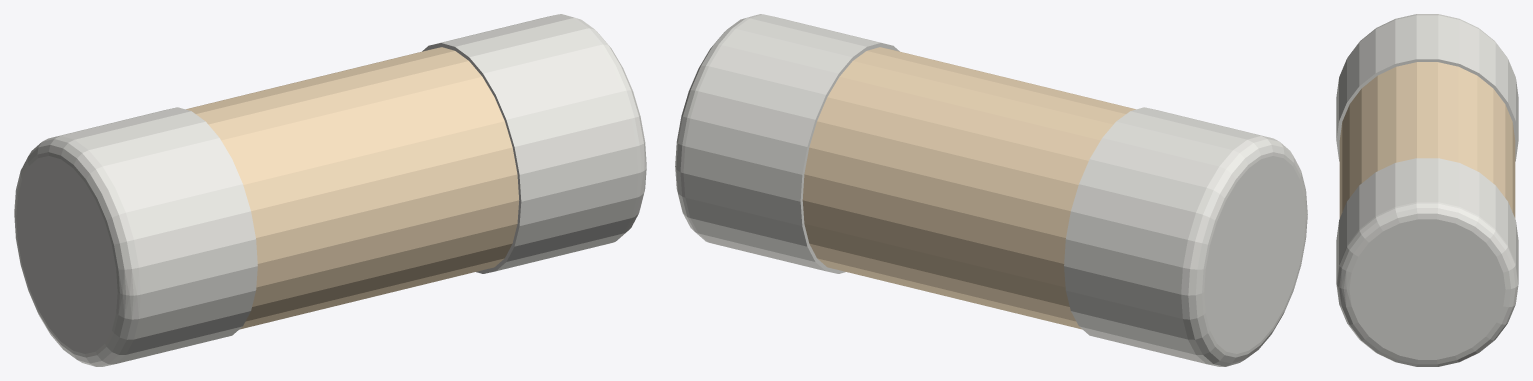
Rendered from R_MiniMELF_MMA-0204.glb.
The picture shows the model from 3 angles, left to right: view 1: azimuth 30°, elevation 25°; view 2: azimuth 150°, elevation 25°; view 3: azimuth 270°, elevation 25°; orthographic projection. The views are drawn at different scales.
Visible parts, largest first — view 1: Shape_IndexedFaceSet.004, Shape_IndexedFaceSet.006, Shape_IndexedFaceSet.002, Shape_IndexedFaceSet.008, Shape_IndexedFaceSet.007, Shape_IndexedFaceSet.001, Shape_IndexedFaceSet.003; view 2: Shape_IndexedFaceSet.004, Shape_IndexedFaceSet.006, Shape_IndexedFaceSet.002, Shape_IndexedFaceSet.008, Shape_IndexedFaceSet.007, Shape_IndexedFaceSet.001, Shape_IndexedFaceSet.003; view 3: Shape_IndexedFaceSet, Shape_IndexedFaceSet.004, Shape_IndexedFaceSet.002, Shape_IndexedFaceSet.006, Shape_IndexedFaceSet.001, Shape_IndexedFaceSet.005, Shape_IndexedFaceSet.007.
Boxes of the visible parts, x1,y1,x2,y2 form: Shape_IndexedFaceSet.004: (186,47,519,329); Shape_IndexedFaceSet.006: (52,107,257,363); Shape_IndexedFaceSet.002: (435,14,638,271); Shape_IndexedFaceSet.008: (16,156,117,353); Shape_IndexedFaceSet.007: (14,136,140,366); Shape_IndexedFaceSet.001: (559,14,646,242); Shape_IndexedFaceSet.003: (422,43,521,273); Shape_IndexedFaceSet.004: (802,47,1135,329); Shape_IndexedFaceSet.006: (1064,107,1269,363); Shape_IndexedFaceSet.002: (683,14,886,271); Shape_IndexedFaceSet.008: (1204,156,1305,353); Shape_IndexedFaceSet.007: (1181,136,1307,366); Shape_IndexedFaceSet.001: (675,14,762,242); Shape_IndexedFaceSet.003: (800,43,899,273); Shape_IndexedFaceSet: (1349,219,1505,359); Shape_IndexedFaceSet.004: (1339,62,1515,218); Shape_IndexedFaceSet.002: (1336,158,1518,283); Shape_IndexedFaceSet.006: (1336,15,1518,140); Shape_IndexedFaceSet.001: (1336,202,1518,366); Shape_IndexedFaceSet.005: (1336,59,1518,161); Shape_IndexedFaceSet.007: (1347,14,1507,57).
Size of the model in its own units: 1.42 by 0.5472 by 0.5512.
